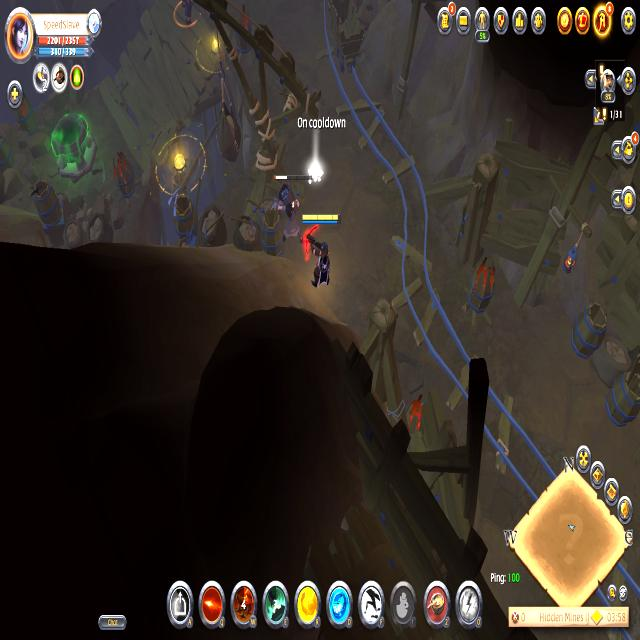ore: (271, 170, 305, 248), (170, 0, 206, 30)
red: (300, 209, 342, 294)
stone: (305, 157, 326, 186)
